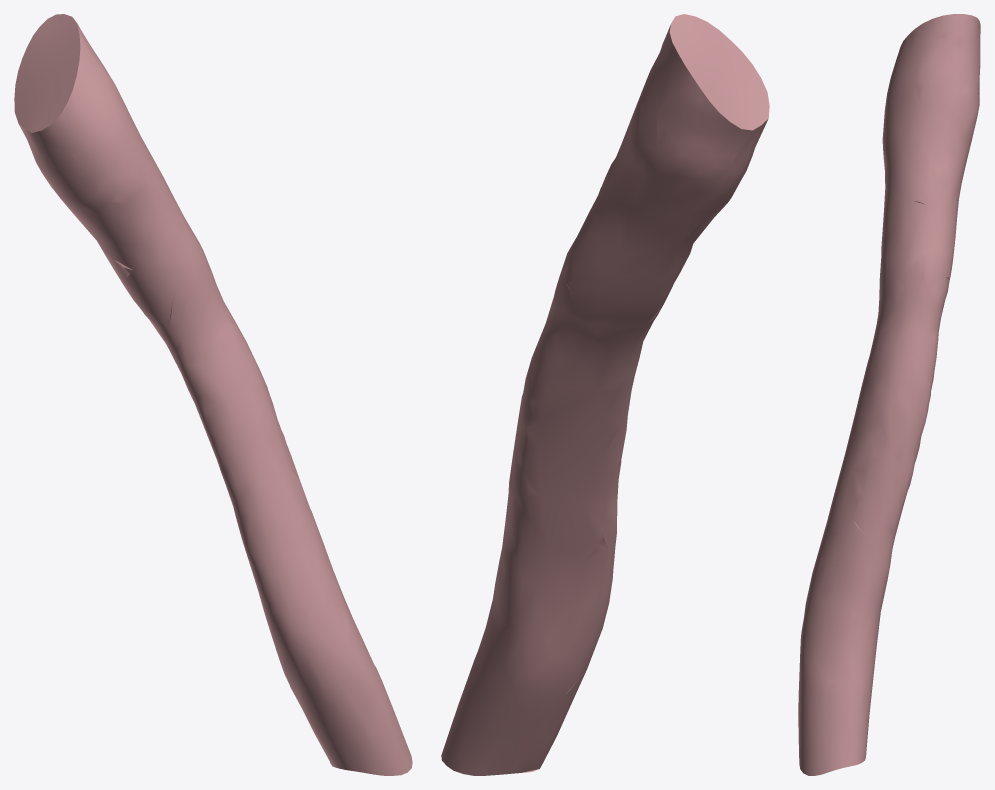
Rendered from fma297844_mm1975.glb.
3 renders of one model, left to right at view 1: azimuth 30°, elevation 25°; view 2: azimuth 150°, elevation 25°; view 3: azimuth 270°, elevation 25°, orthographic. The views are drawn at different scales.
Parts seen in each view (by area): view 1: FMA297844_MM1975; view 2: FMA297844_MM1975; view 3: FMA297844_MM1975.
Boxes of the visible parts, box(x1,y1,x2,y2) form: FMA297844_MM1975: box(14, 14, 412, 775); FMA297844_MM1975: box(441, 14, 769, 775); FMA297844_MM1975: box(798, 14, 980, 775).
Bounding box in the file's own units: 0.0218 × 0.0482 × 0.0122.
